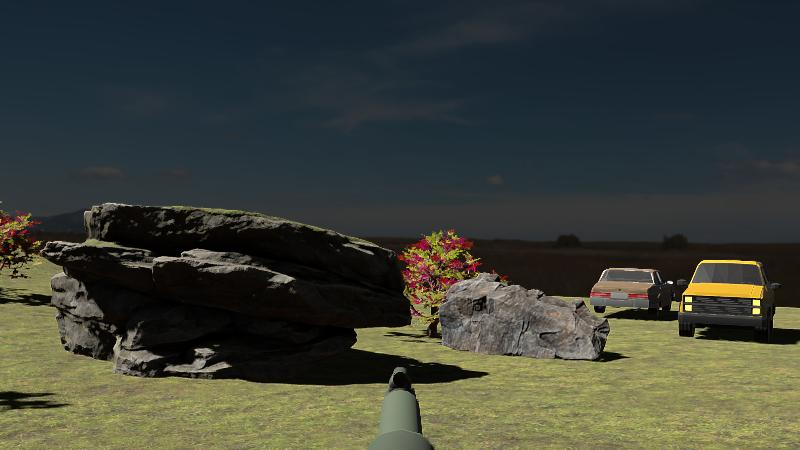car: (678, 258, 783, 342), (590, 266, 676, 321)
